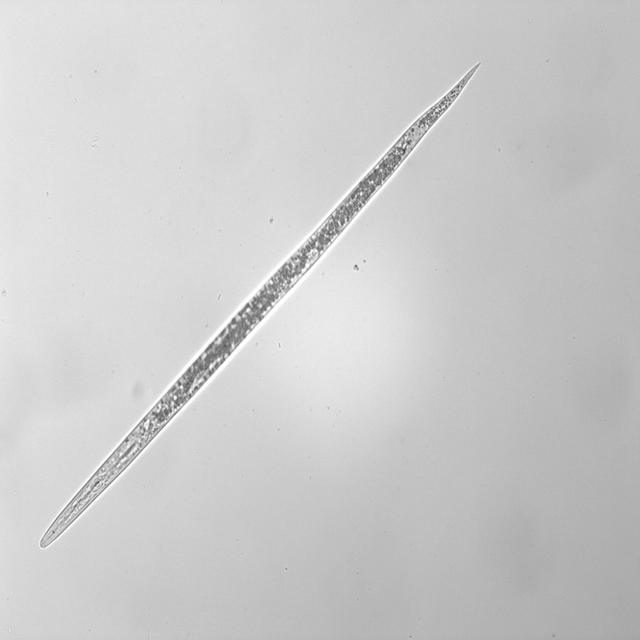Meloidogyne: (40, 57, 484, 552)
